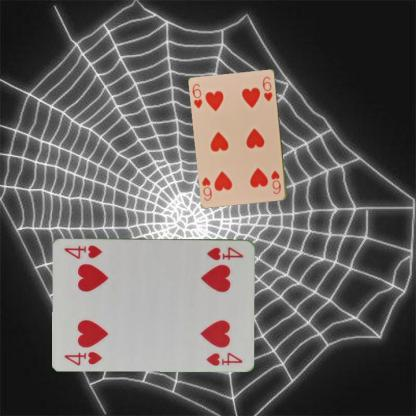4h: (63, 348, 104, 366), (205, 244, 245, 261)
6h: (190, 81, 204, 110), (269, 168, 282, 195)
